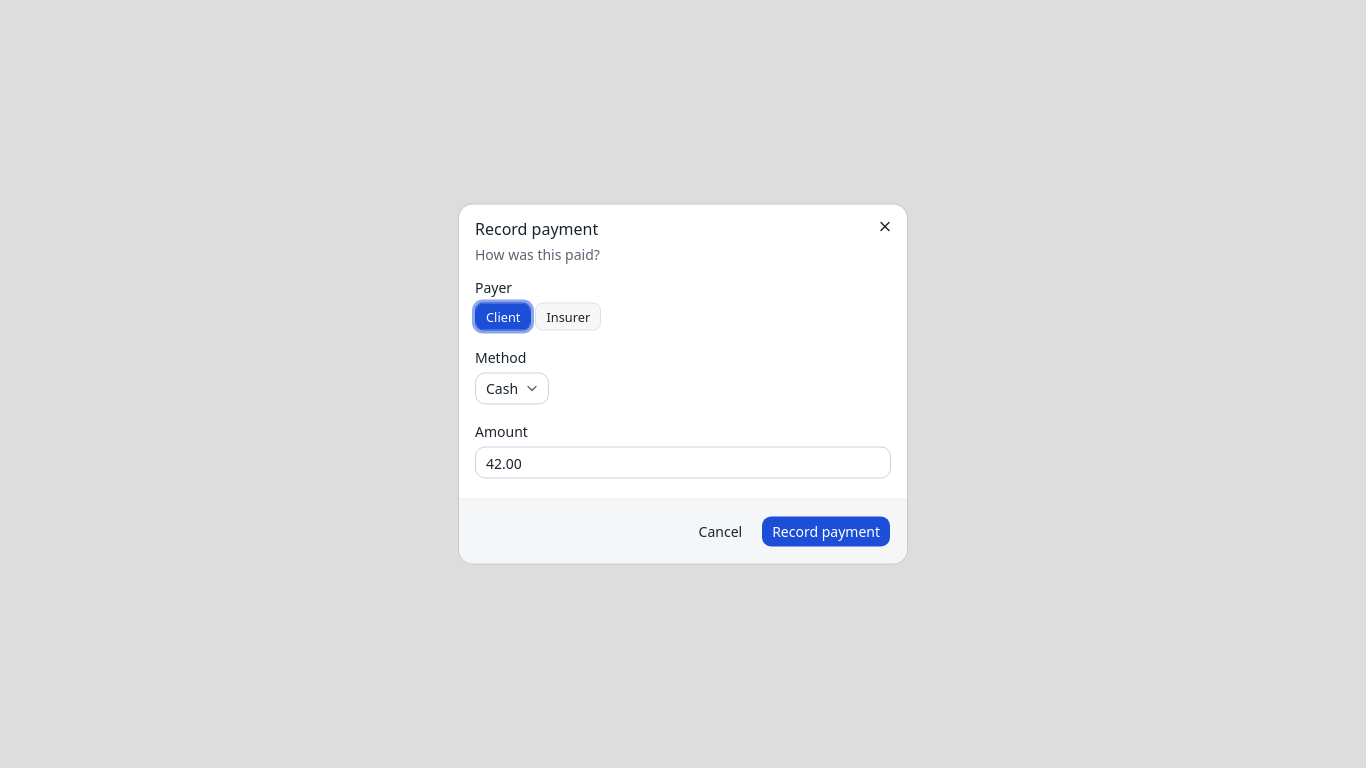
it: RecordPaymentDialog is a standalone, reusable export — the same shape Sell (#106) and package purchase (#108) open pre-filled
The width and height of the screenshot is (1366, 768).
Expected: the field labelled "Amount" holds "42.00", [475, 446, 891, 478]
Step 1. Click the button "Record payment" → coordinates (826, 532), box [761, 516, 891, 548]
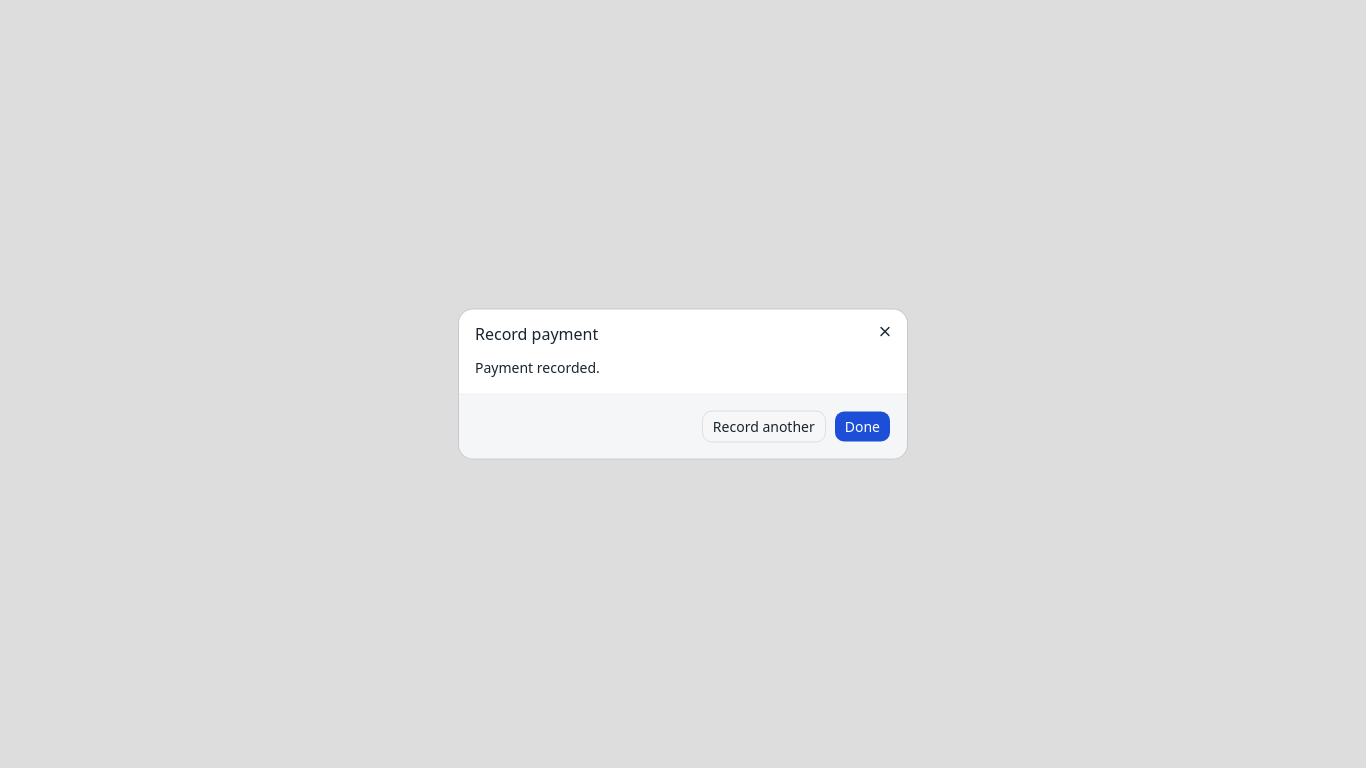
Expected: the text "Payment recorded." is shown, [475, 358, 600, 376]
